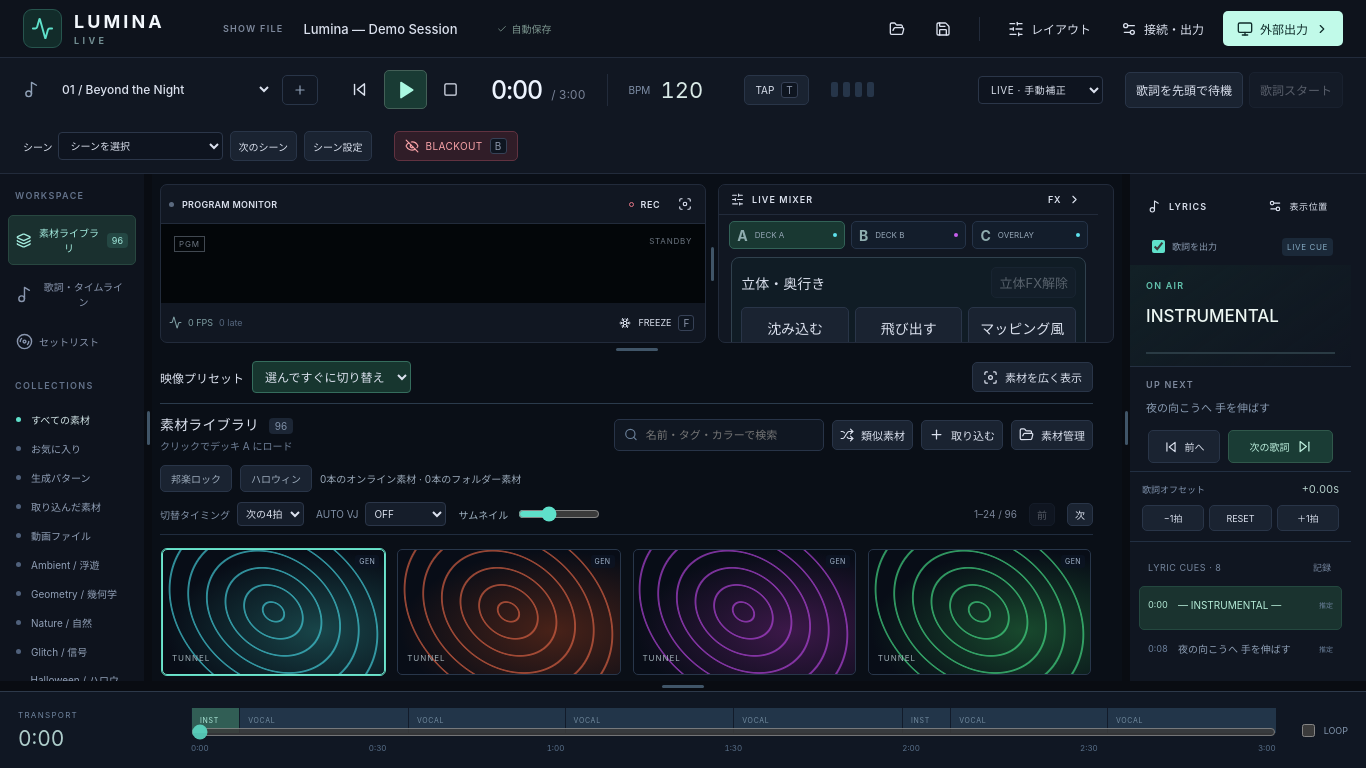
Scenario: scene settings dialog opened from the real App › reopens the same song from the top transport on the setlist after closing with close button
Expected: the dropdown named "現在の曲" shows "01 / Beyond the Night", x1=50 y1=75 x2=272 y2=104
Click the button "セットリスト" at [72, 342], box x1=8 y1=323 x2=136 y2=360
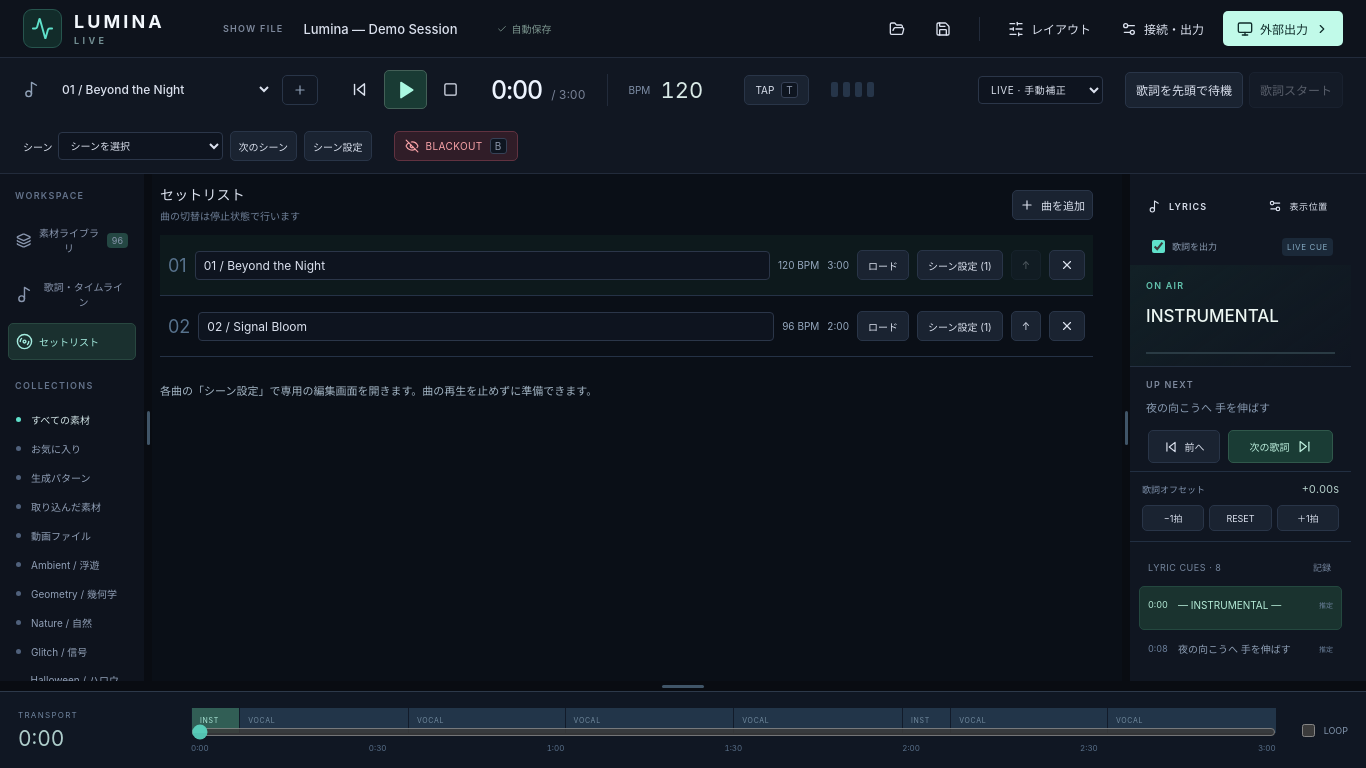
Expected: the element with class "transport" is shown, x1=0 y1=58 x2=1365 y2=174
Now the element with class "content-panel" has attribute aria-label="セットリスト編集", box x1=160 y1=186 x2=1093 y2=398
Click the button "シーン設定" at [338, 146], box x1=304 y1=131 x2=372 y2=161
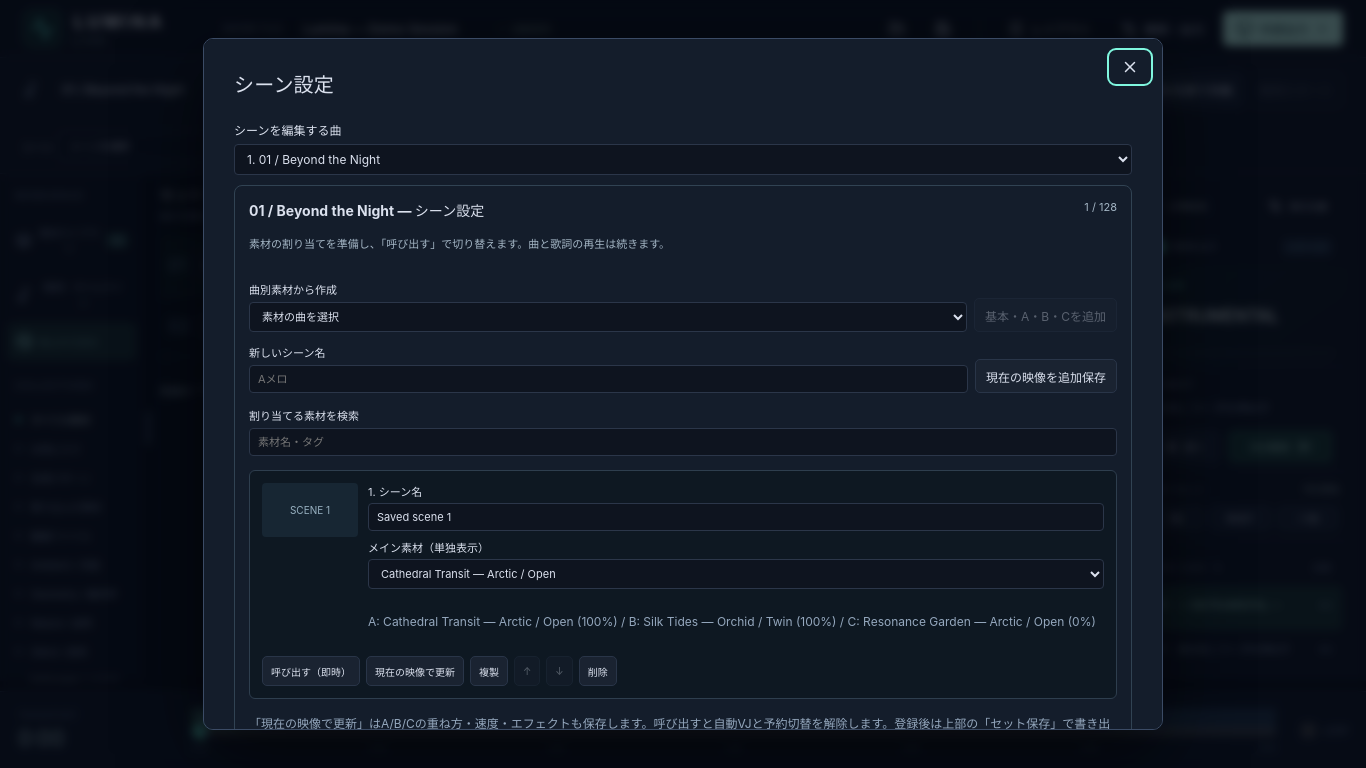
Now the number of dialogs named "シーン設定" is 1
Now the dialog named "シーン設定" is shown
Now the element named "シーン設定" is shown
Click the button named "閉じる" at [1130, 67], box x1=1111 y1=52 x2=1149 y2=82
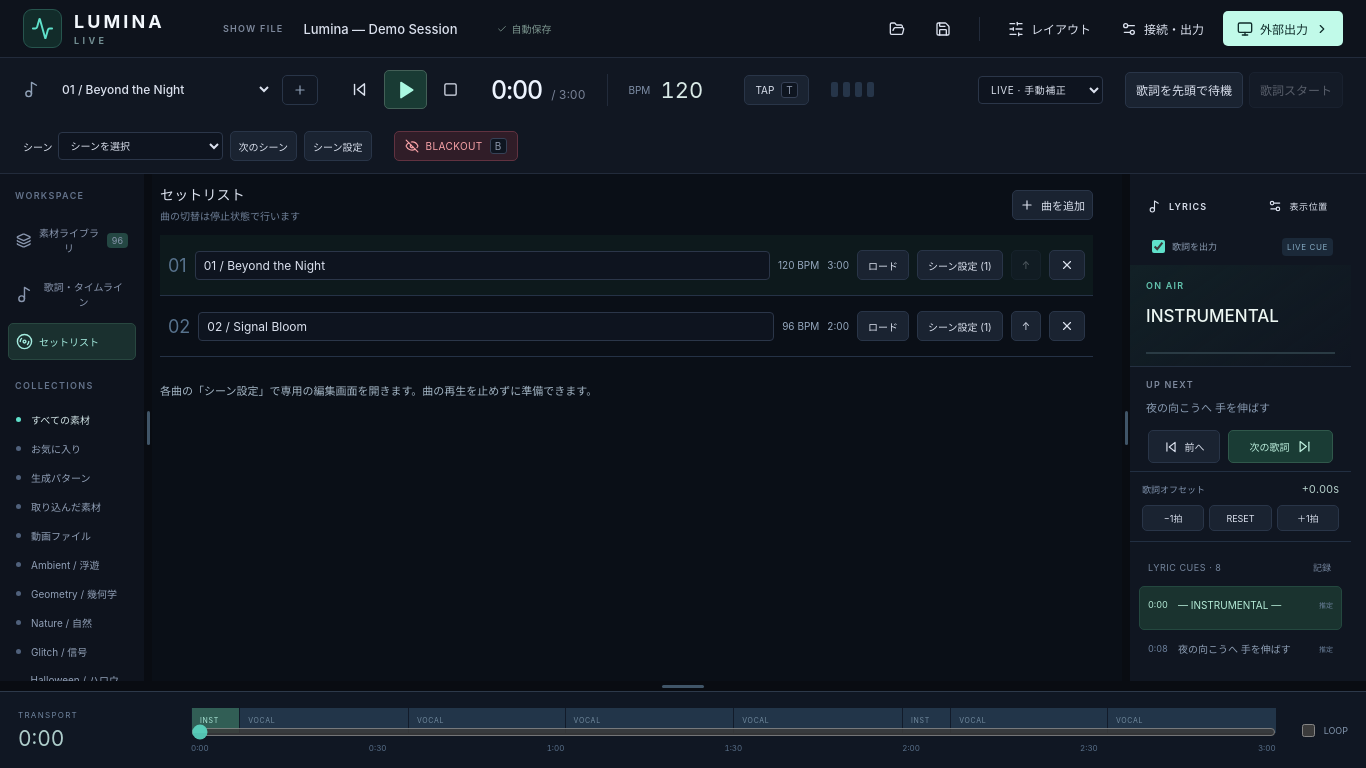
Now the dialog named "シーン設定" is gone
Click the button "シーン設定" at [338, 146], box x1=304 y1=131 x2=372 y2=161
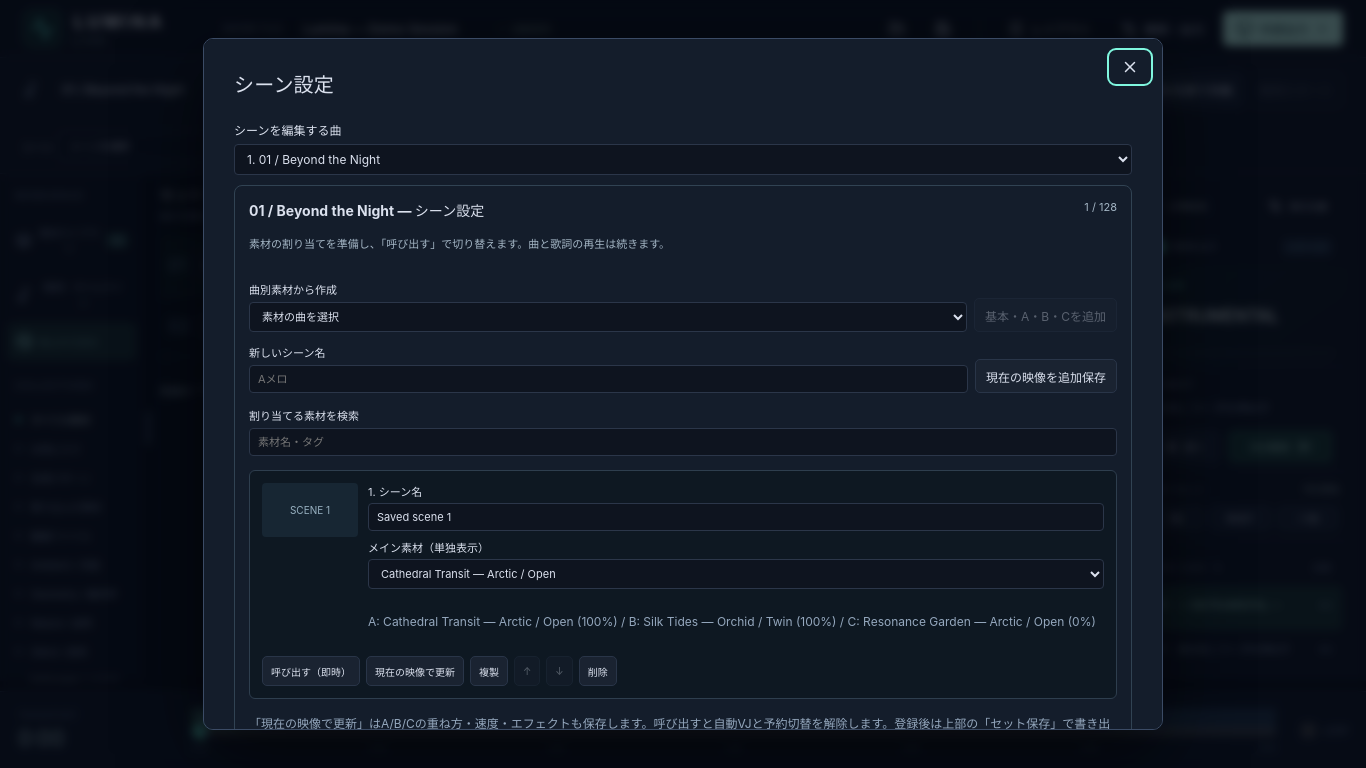
Now the number of dialogs named "シーン設定" is 1
Now the dialog named "シーン設定" is shown
Now the element named "シーン設定" is shown
